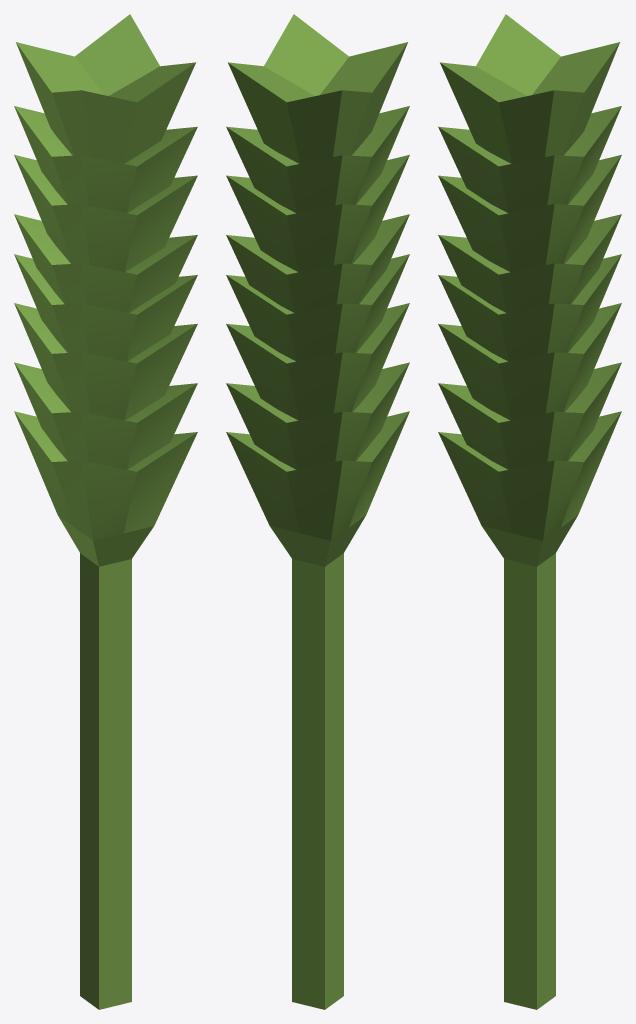
File: SmallerWheat.fbx
The picture shows the model from 3 angles, left to right: view 1: azimuth 30°, elevation 25°; view 2: azimuth 150°, elevation 25°; view 3: azimuth 330°, elevation 25°; orthographic projection.
Parts seen in each view (by area): view 1: SmallerWheat; view 2: SmallerWheat; view 3: SmallerWheat.
Part boxes in pixels (x1=…): SmallerWheat: x1=14, y1=14, x2=197, y2=1009; SmallerWheat: x1=226, y1=14, x2=409, y2=1009; SmallerWheat: x1=438, y1=14, x2=621, y2=1009.
Bounding box in the file's own units: 8.65 × 67.07 × 8.65.
